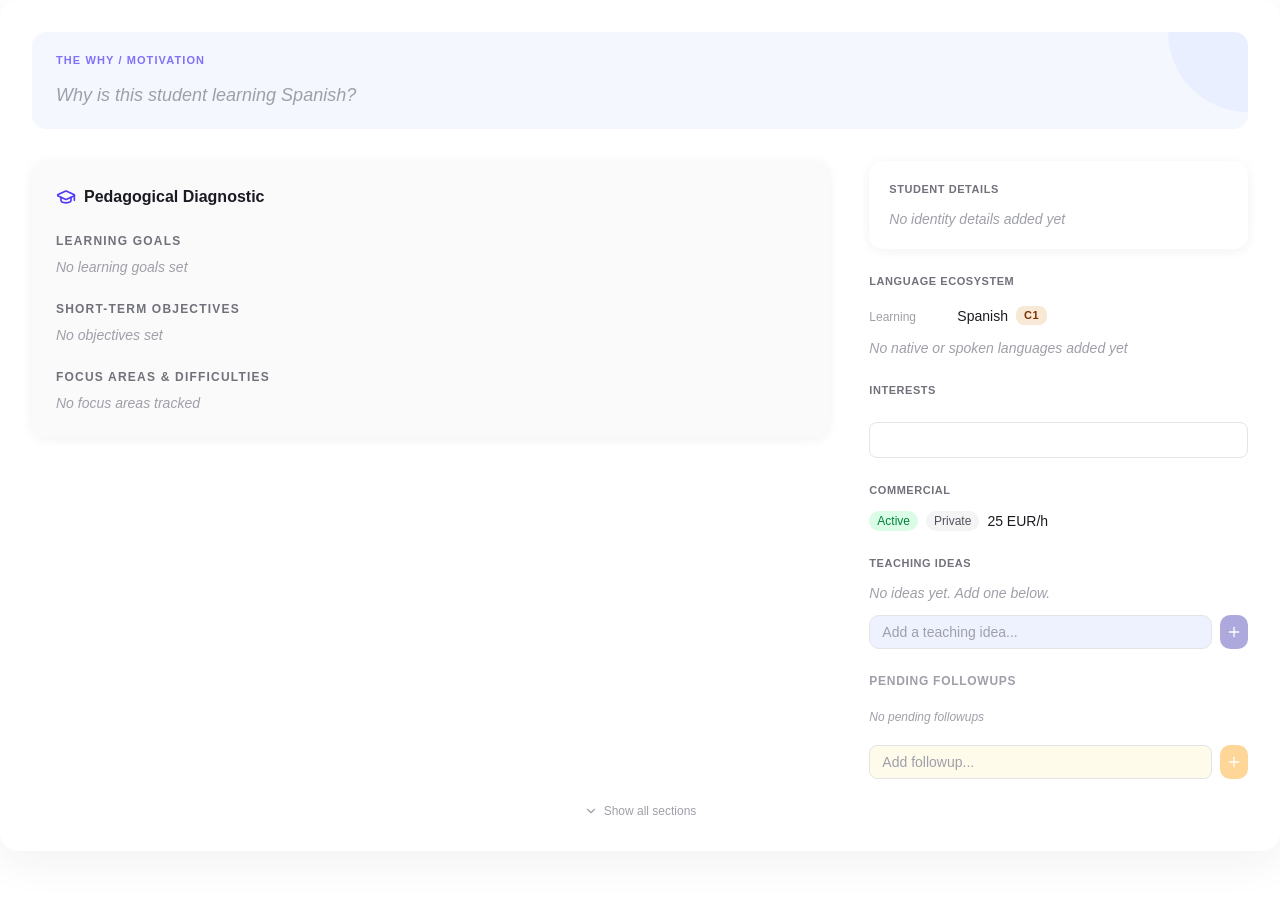
it: StudentProfileTab › Teacher's Working Memory (unified notes, dark section) › shows when revealed via show-all toggle
Click the button with test id "show-empty-sections-btn". click: (640,811)
box: [584,803,696,819]
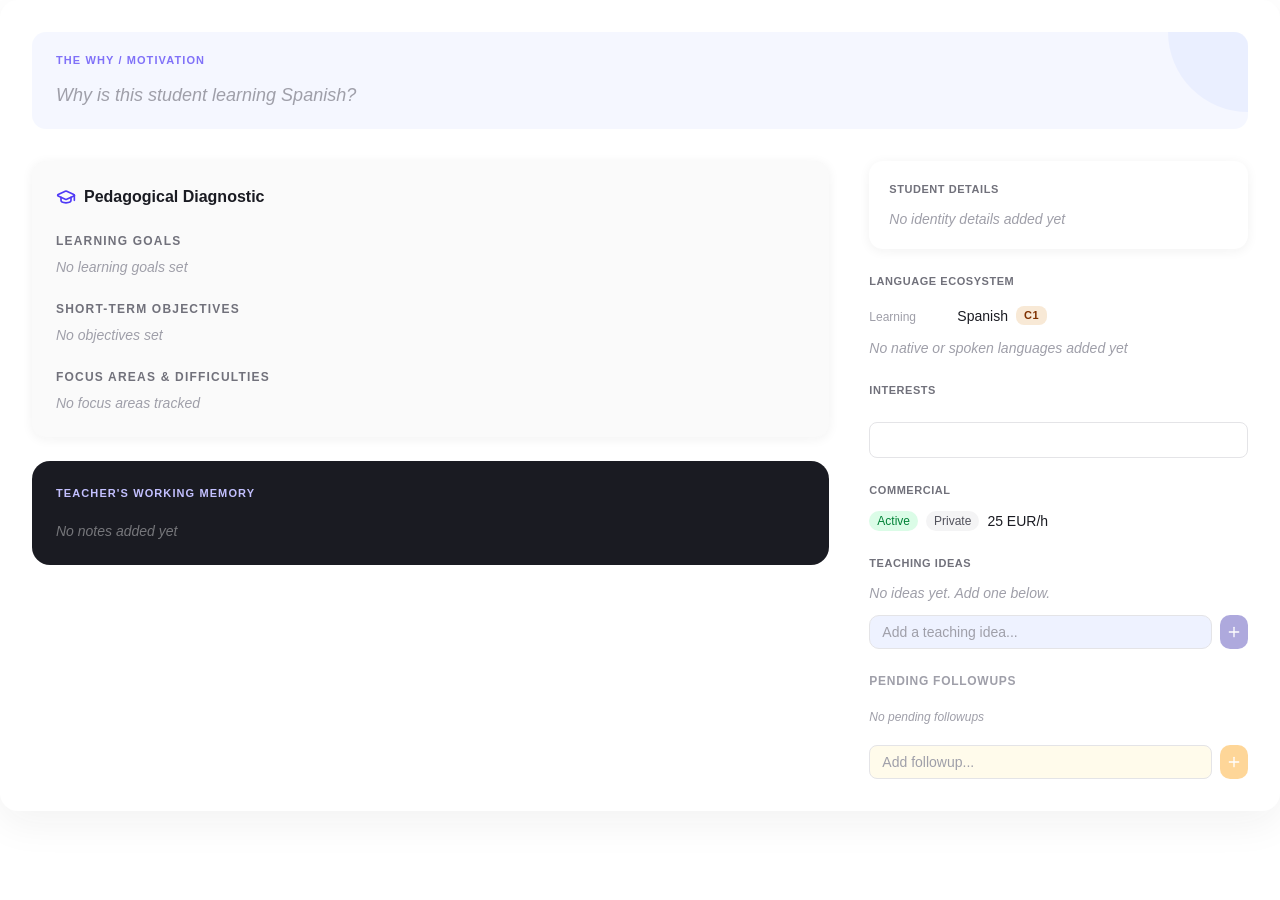
Result: the element with test id "profile-teachers-working-memory" is shown at [32,460,829,565]
